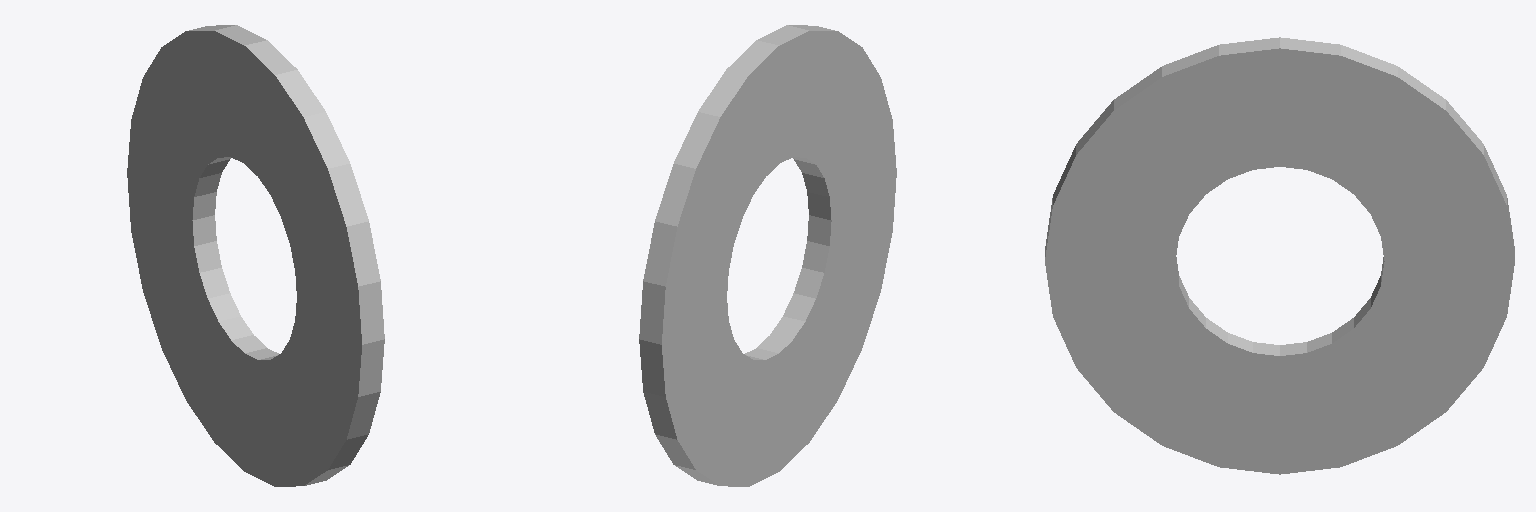
File: original-36.obj
3 renders of one model, left to right at view 1: azimuth 30°, elevation 25°; view 2: azimuth 150°, elevation 25°; view 3: azimuth 270°, elevation 25°, orthographic.
Parts seen in each view (by area): view 1: Washer_M8_16/Washer_M8/mesh1/mesh1-geometry#mesh1-geometry; view 2: Washer_M8_16/Washer_M8/mesh1/mesh1-geometry#mesh1-geometry; view 3: Washer_M8_16/Washer_M8/mesh1/mesh1-geometry#mesh1-geometry.
Boxes of the visible parts, x1=… form: Washer_M8_16/Washer_M8/mesh1/mesh1-geometry#mesh1-geometry: x1=127, y1=25, x2=384, y2=486; Washer_M8_16/Washer_M8/mesh1/mesh1-geometry#mesh1-geometry: x1=639, y1=25, x2=896, y2=486; Washer_M8_16/Washer_M8/mesh1/mesh1-geometry#mesh1-geometry: x1=1045, y1=37, x2=1514, y2=474.
Bounding box in the file's own units: 0.0024 × 0.0433 × 0.0433.